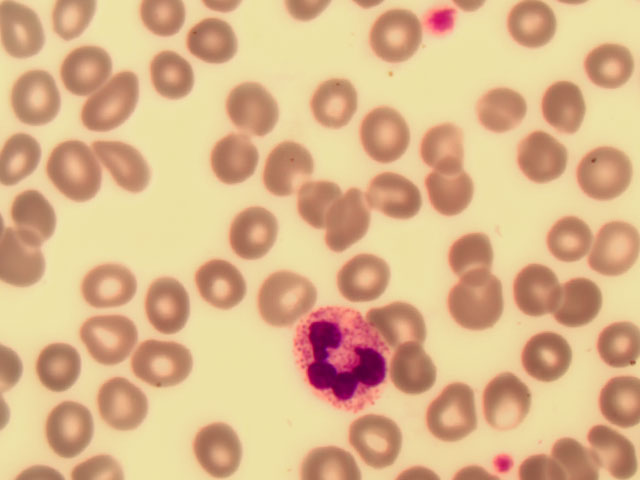Platelets: (424, 2, 462, 38), (491, 453, 514, 472)
RBC: (62, 44, 112, 91), (3, 3, 53, 50), (11, 73, 61, 120), (90, 76, 140, 123), (105, 142, 155, 189), (51, 146, 101, 193), (1, 135, 51, 182), (11, 193, 61, 240), (10, 240, 60, 287), (89, 262, 139, 309), (86, 311, 136, 358), (38, 344, 88, 391), (102, 383, 152, 430), (45, 407, 95, 454), (136, 339, 186, 386), (142, 284, 192, 331), (196, 258, 246, 305), (233, 215, 283, 262), (217, 138, 267, 185), (228, 84, 278, 131), (148, 49, 198, 96), (191, 19, 241, 66), (138, 1, 188, 48), (259, 142, 309, 189), (292, 176, 342, 223), (324, 194, 374, 241), (336, 252, 386, 299), (264, 273, 314, 320), (197, 421, 247, 468), (306, 433, 356, 480), (356, 415, 406, 462), (430, 392, 480, 439), (391, 341, 441, 388), (381, 298, 431, 345), (454, 281, 504, 328), (448, 232, 498, 279), (368, 172, 418, 219), (356, 104, 406, 151), (313, 81, 363, 128), (370, 10, 420, 57), (427, 163, 477, 210), (422, 133, 472, 180), (474, 89, 524, 136), (541, 82, 591, 129), (516, 130, 566, 177), (579, 152, 629, 199), (581, 44, 631, 91), (590, 220, 640, 267), (537, 214, 587, 261), (514, 263, 564, 310), (548, 274, 598, 321), (527, 330, 577, 377), (483, 379, 533, 426), (539, 433, 589, 480), (590, 433, 640, 480), (590, 377, 640, 424), (590, 319, 640, 366), (43, 1, 93, 47), (499, 1, 549, 47)
WBC: (291, 302, 393, 412)
